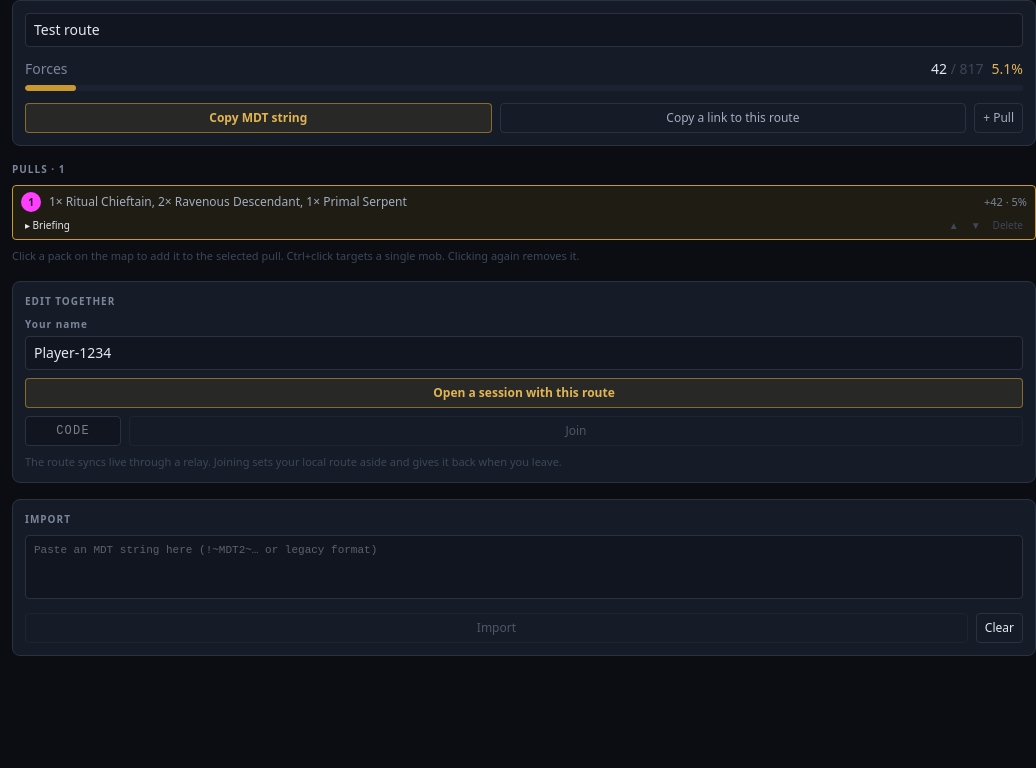
Scenario: Import › names the dungeon when the string is for a different one
Step 1. Type "x" into the text box with placeholder "Paste an MDT string here (!~MDT2~… or legacy format)" → (524, 567), box [25, 535, 1023, 598]
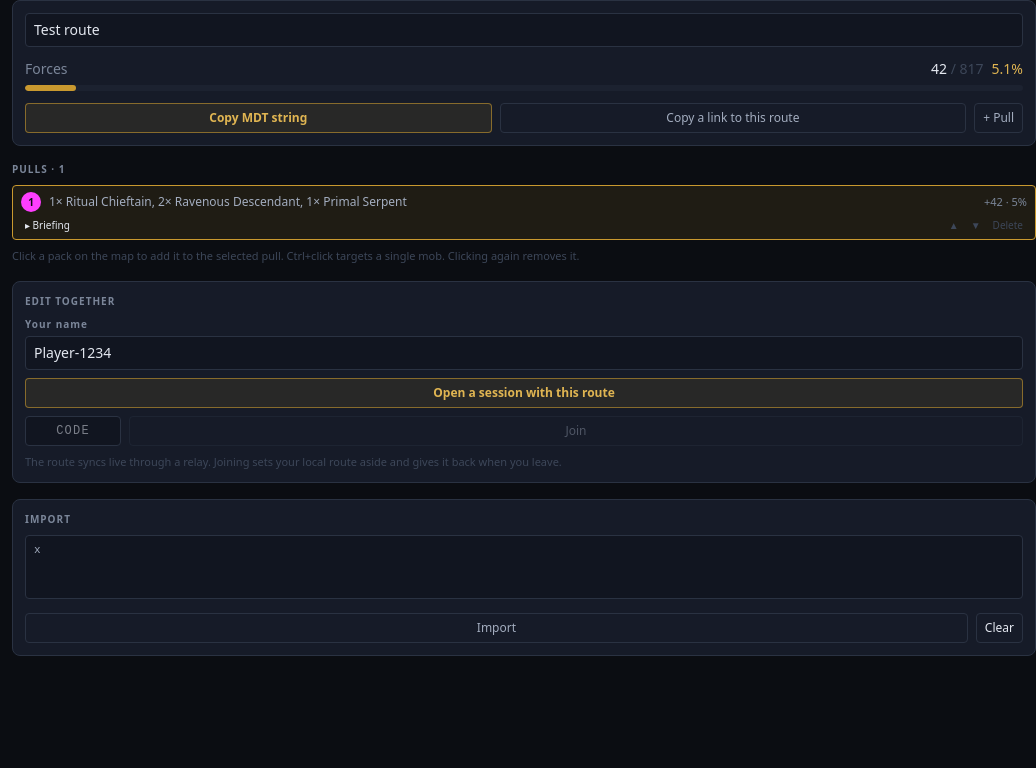
Step 2. Click the button "Import" → (496, 628), box [25, 612, 968, 642]
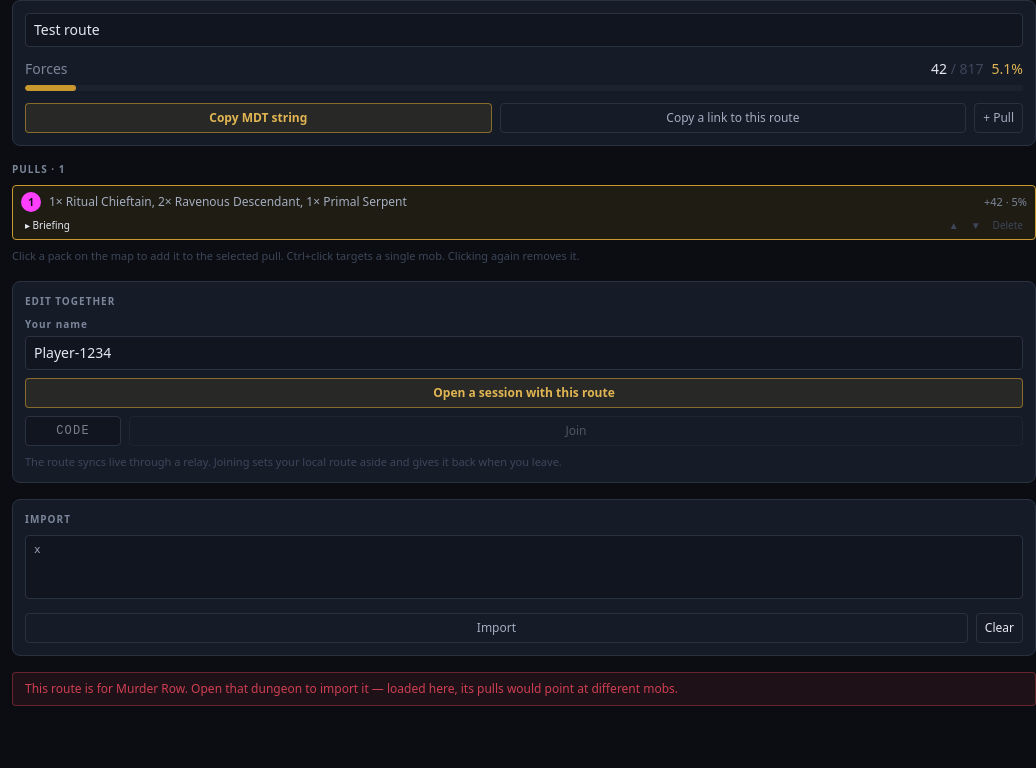
Result: the text "Murder Row" is shown at [25, 680, 678, 696]
